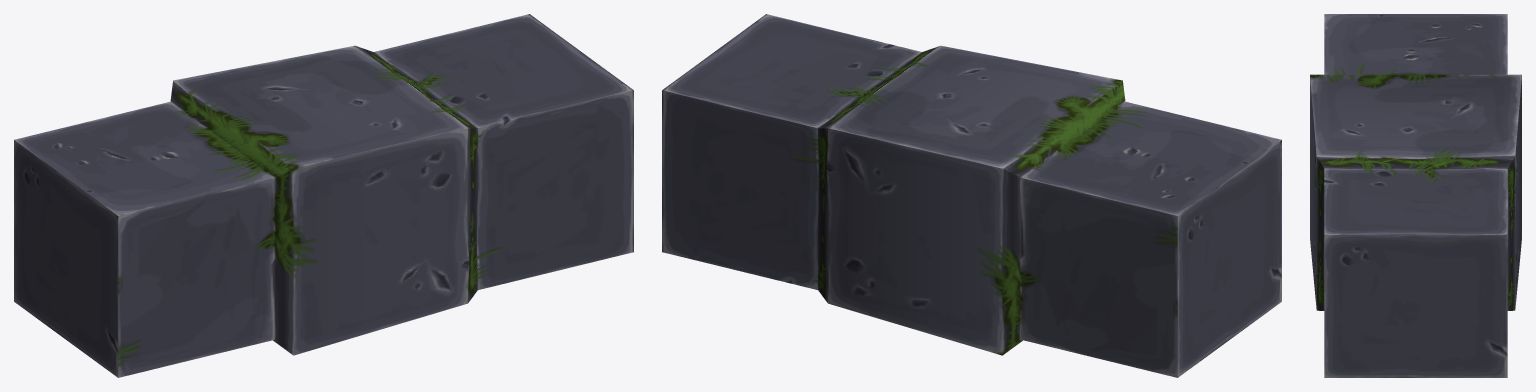
The model's file is MOD_WallCover_01_E_straight_half_L.fbx.
3 views of the same model, side by side, from view 1: azimuth 30°, elevation 25°; view 2: azimuth 150°, elevation 25°; view 3: azimuth 270°, elevation 25° (orthographic). The views are drawn at different scales.
Visible parts, largest first — view 1: MOD_WallCover_01_E_straight_half_L; view 2: MOD_WallCover_01_E_straight_half_L; view 3: MOD_WallCover_01_E_straight_half_L.
Part boxes in pixels (x1,y1,x2,y2): MOD_WallCover_01_E_straight_half_L: [14, 14, 633, 377]; MOD_WallCover_01_E_straight_half_L: [662, 14, 1281, 377]; MOD_WallCover_01_E_straight_half_L: [1310, 14, 1521, 377].
Size of the model in its own units: 200 by 69.32 by 80.87.
